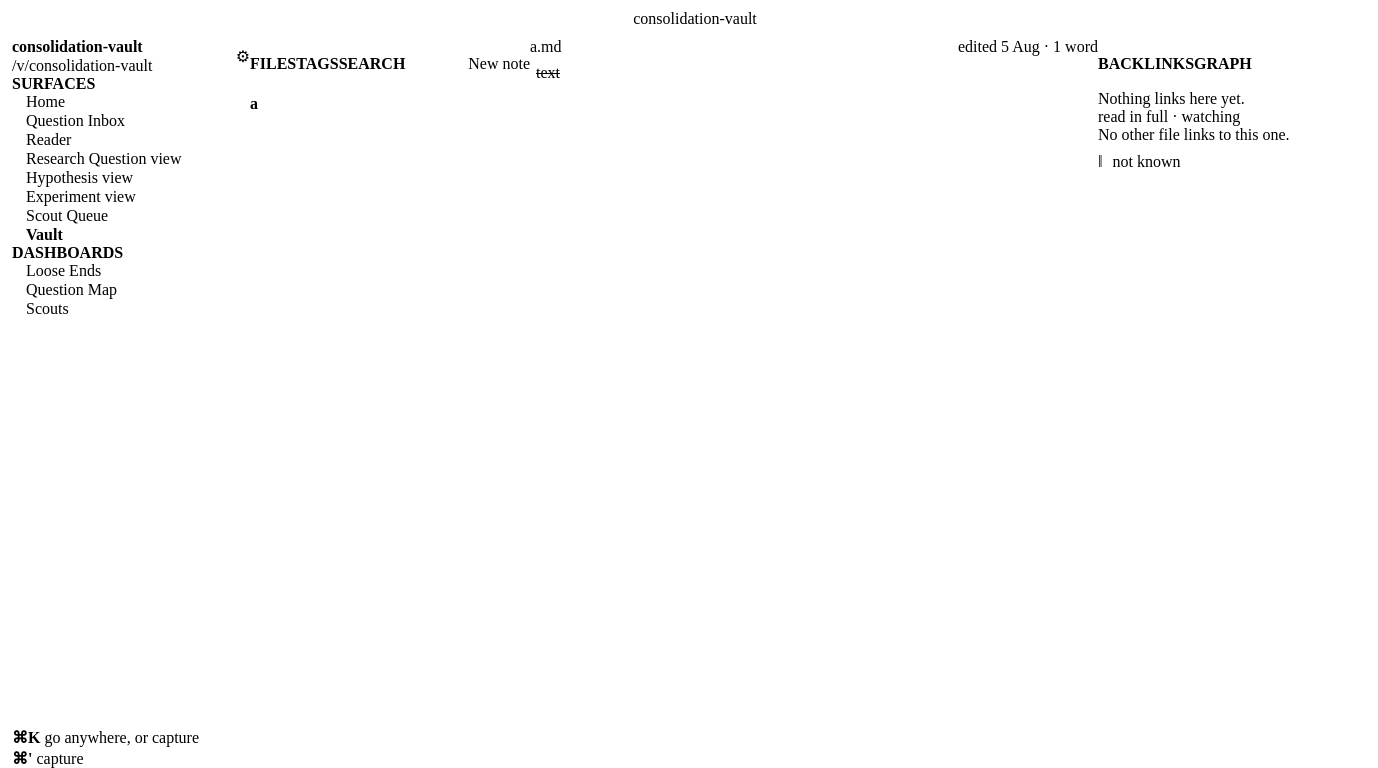
Test: a Markdown link in note text › draws javascript:alert(1) as not a link and says its scheme
Click the field labelled "text": {"x": 548, "y": 72} 536,64 -> 560,81
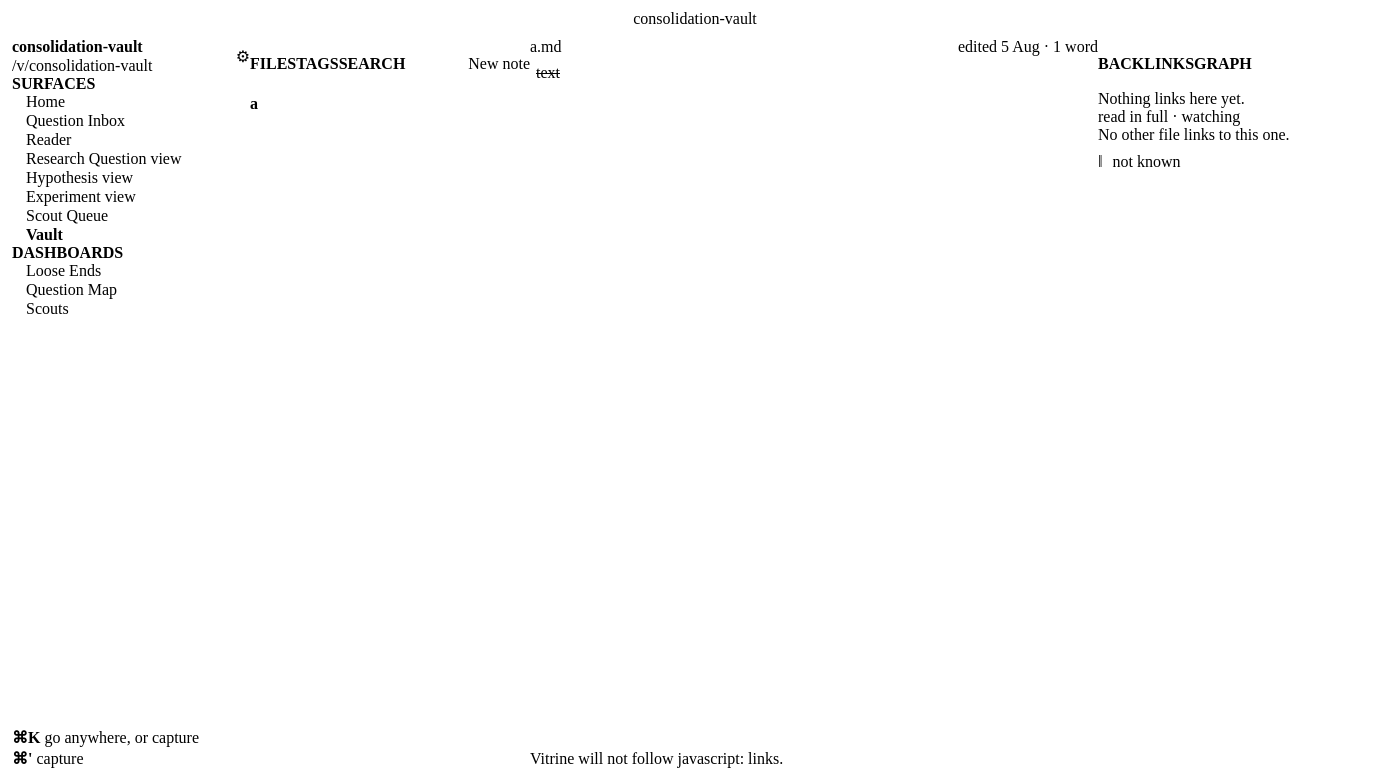
Check: the message shows "javascript:", box 530,750 -> 783,767
